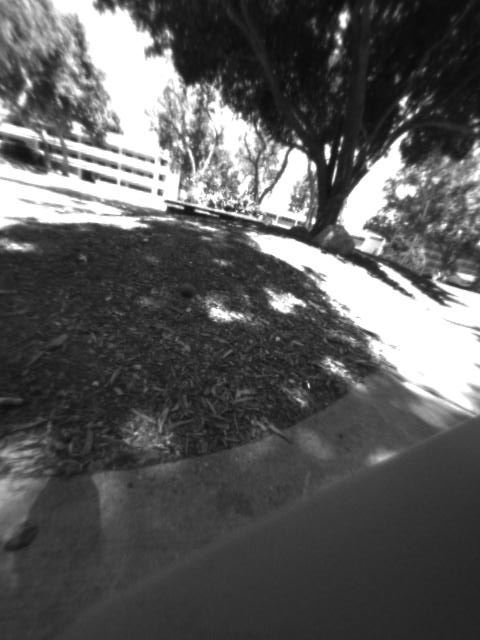dogtoy: (169, 275, 208, 308)
